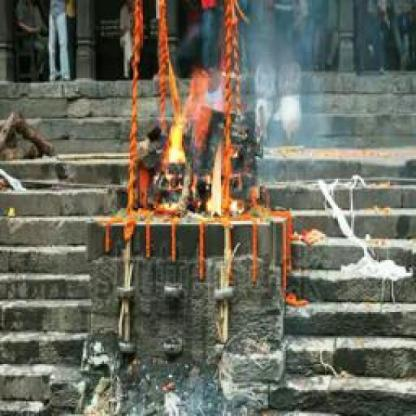fire: (168, 71, 229, 218)
